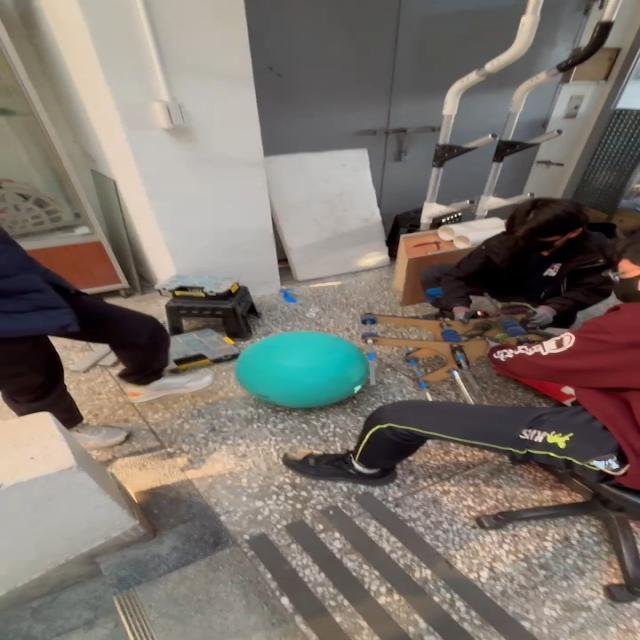ALGAE: (232, 329, 371, 409)
